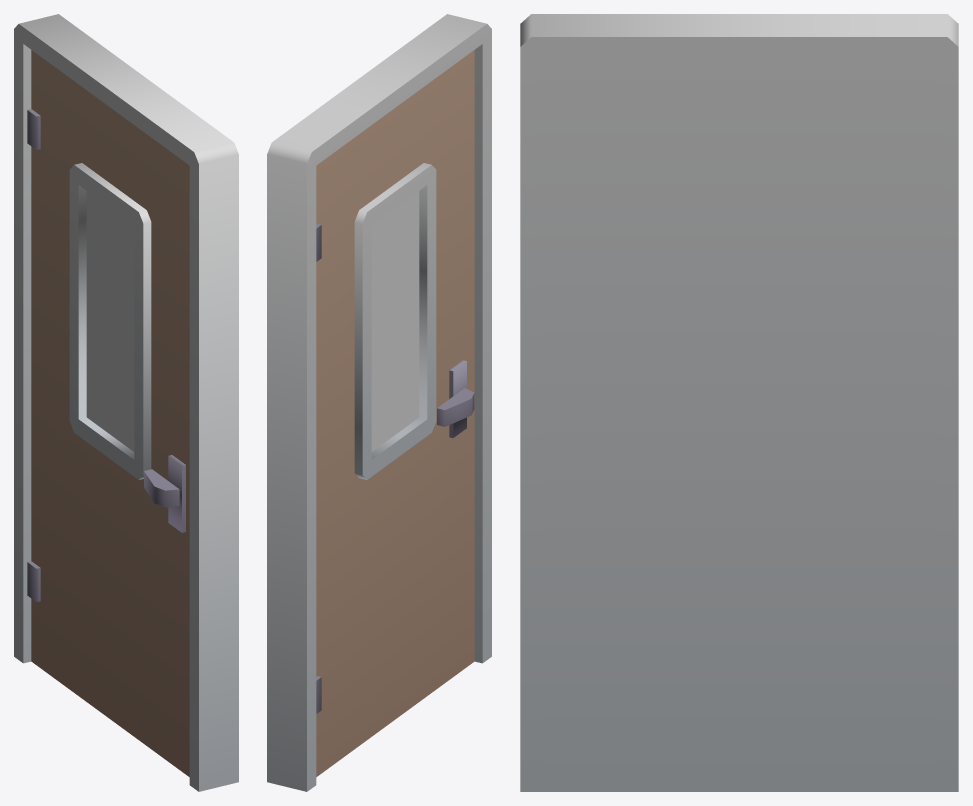
File: door-small-window (%wall).glb
3 views of the same model, side by side, from view 1: azimuth 30°, elevation 25°; view 2: azimuth 150°, elevation 25°; view 3: azimuth 270°, elevation 25° (orthographic). The views are drawn at different scales.
Parts seen in each view (by area): view 1: door-small-window (%wall); view 2: door-small-window (%wall); view 3: door-small-window (%wall).
Part boxes in pixels (bbox=[...]): door-small-window (%wall): bbox=[14, 14, 238, 791]; door-small-window (%wall): bbox=[267, 14, 491, 791]; door-small-window (%wall): bbox=[520, 14, 958, 791].
Size of the model in its own units: 0.1625 by 1.9 by 1.
